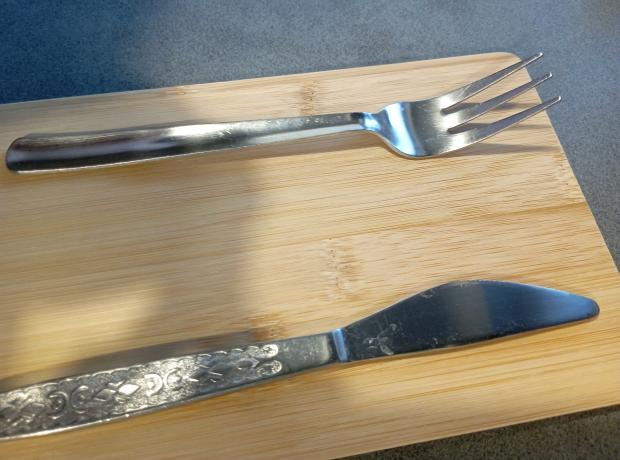metal: (0, 277, 601, 442), (7, 49, 564, 190)
